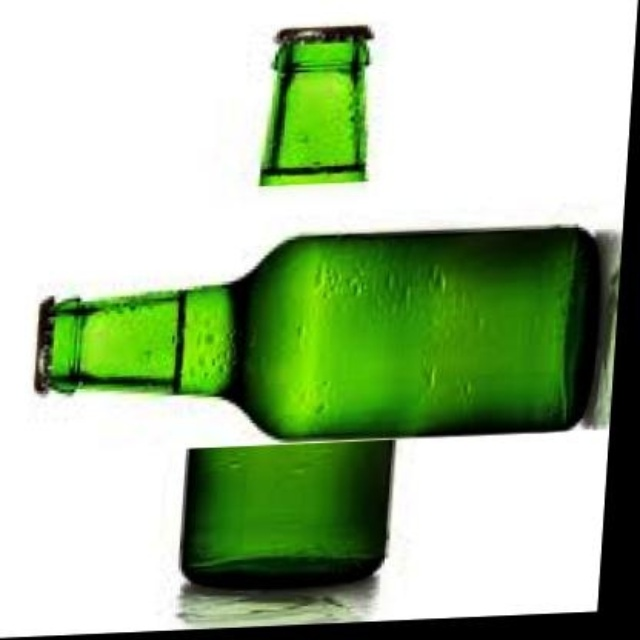trash: (35, 228, 597, 437), (182, 440, 392, 586), (260, 26, 372, 185)
